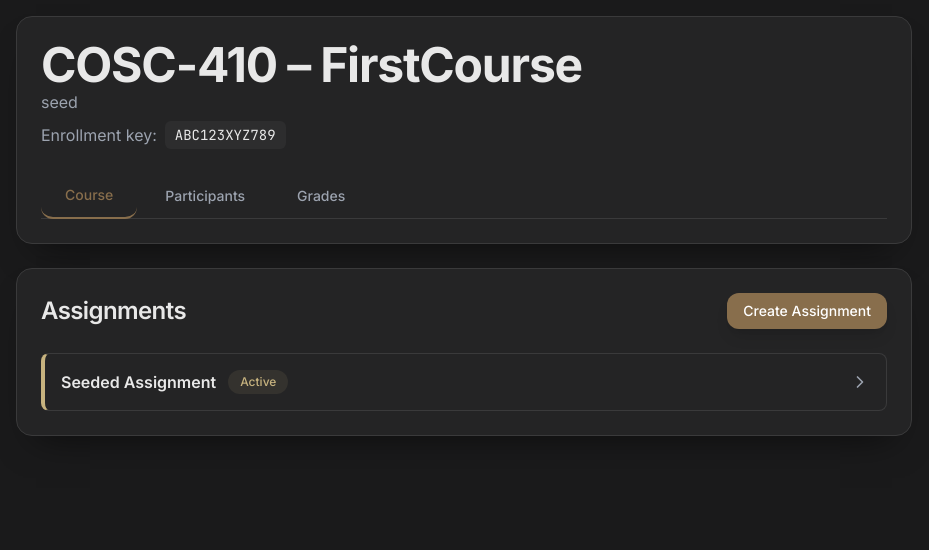
Scenario: CoursePage › faculty gradebook data loading
Expected: the heading "COSC-410 – FirstCourse" is shown, top-left (41, 35), bottom-right (582, 94)
Click the tab "grades" at (321,196), box top-left (273, 173), bottom-right (369, 218)
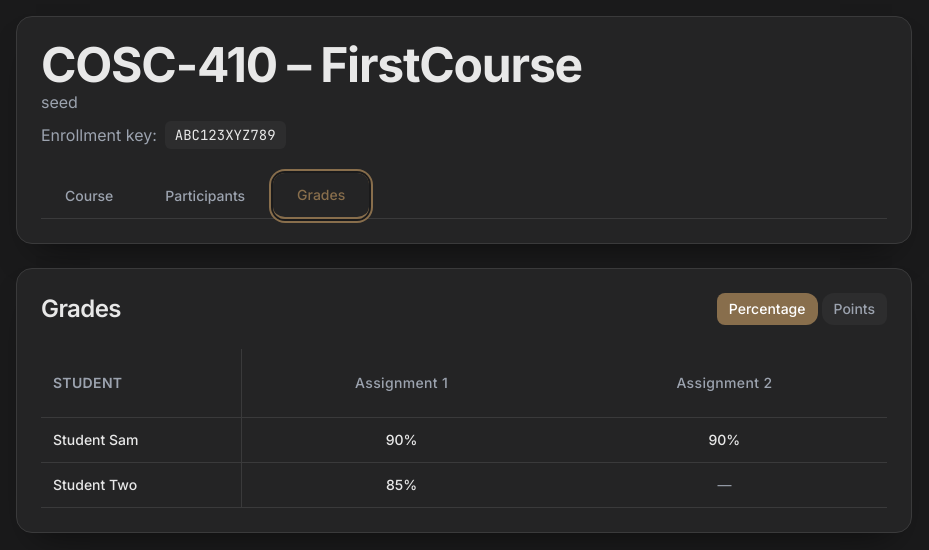
Expected: the text "Student Sam" is shown, top-left (41, 418), bottom-right (241, 462)
Expected: the text "Student Two" is shown, top-left (41, 462), bottom-right (241, 508)
